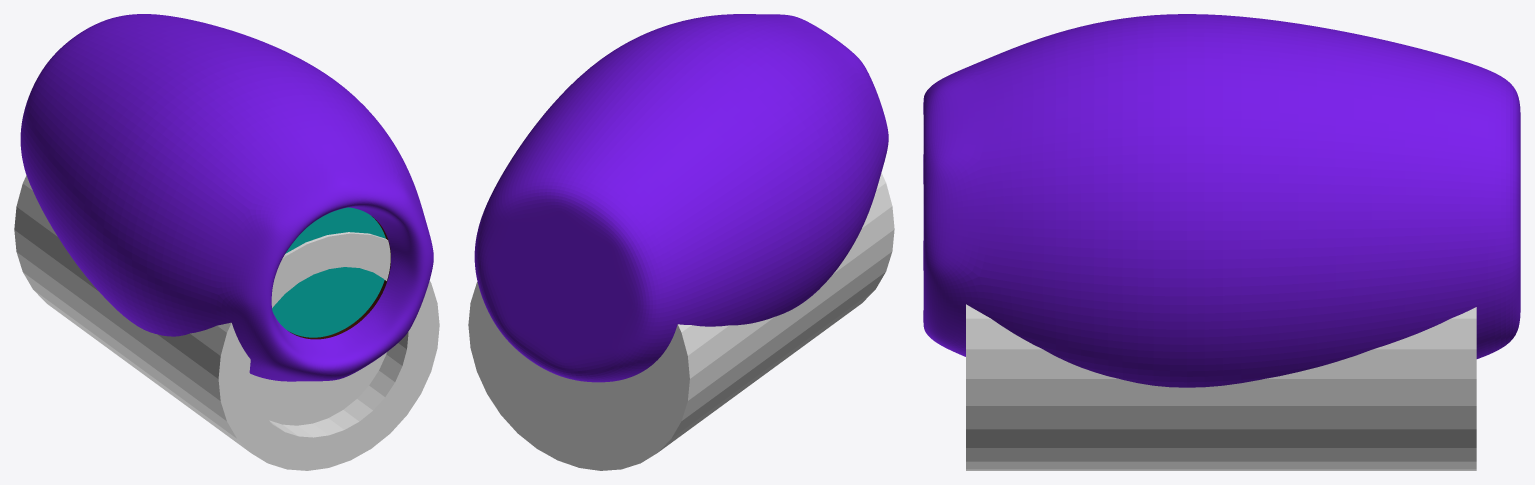
Rendered from ROKKUMAN.fbx.
3 renders of one model, left to right at view 1: azimuth 30°, elevation 25°; view 2: azimuth 150°, elevation 25°; view 3: azimuth 270°, elevation 25°, orthographic. The views are drawn at different scales.
Parts seen in each view (by area): view 1: 円柱.003, 円柱.001; view 2: 円柱.003, 円柱.001; view 3: 円柱.003, 円柱.001.
Part boxes in pixels (bbox=[...]): 円柱.003: bbox=[20, 14, 433, 381]; 円柱.001: bbox=[14, 175, 439, 470]; 円柱.003: bbox=[474, 14, 888, 382]; 円柱.001: bbox=[468, 173, 894, 470]; 円柱.003: bbox=[923, 14, 1520, 387]; 円柱.001: bbox=[966, 304, 1476, 470].
Bounding box in the file's own units: 249 × 293 × 374.
